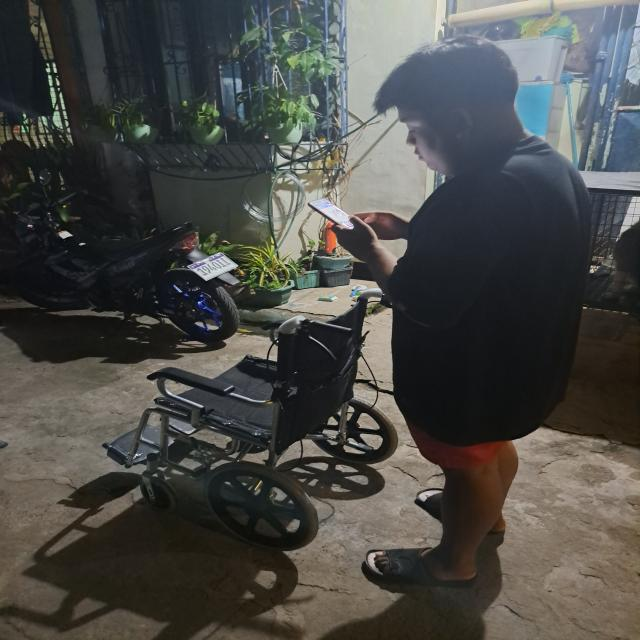wheelchairs: (100, 290, 410, 566)
